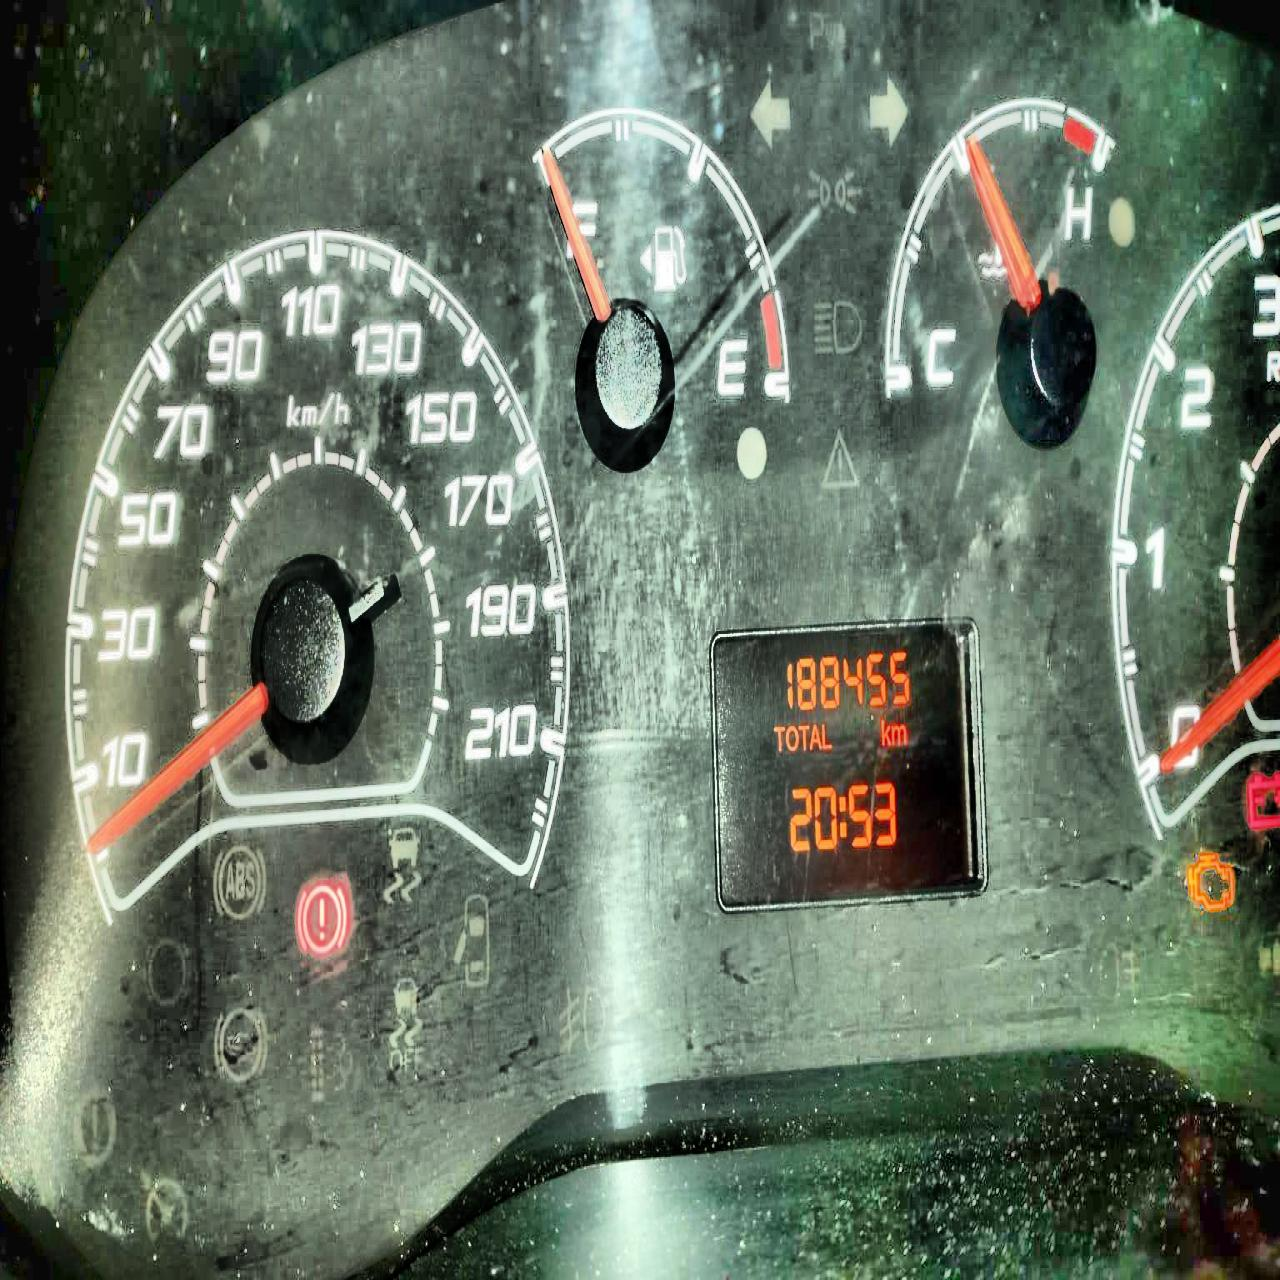0: (812, 784, 837, 849)
1: (784, 660, 794, 709)
2: (788, 787, 811, 852)
3: (873, 781, 896, 844)
4: (843, 656, 863, 703)
5: (847, 784, 871, 847), (866, 652, 886, 707), (888, 651, 908, 703)
8: (818, 654, 839, 709), (795, 654, 816, 709)
X: (837, 795, 847, 839), (890, 723, 907, 747), (785, 723, 799, 751), (771, 723, 784, 753), (879, 717, 891, 747), (809, 722, 821, 751), (821, 722, 832, 749), (798, 722, 809, 751)
odometer: (704, 608, 989, 921)
